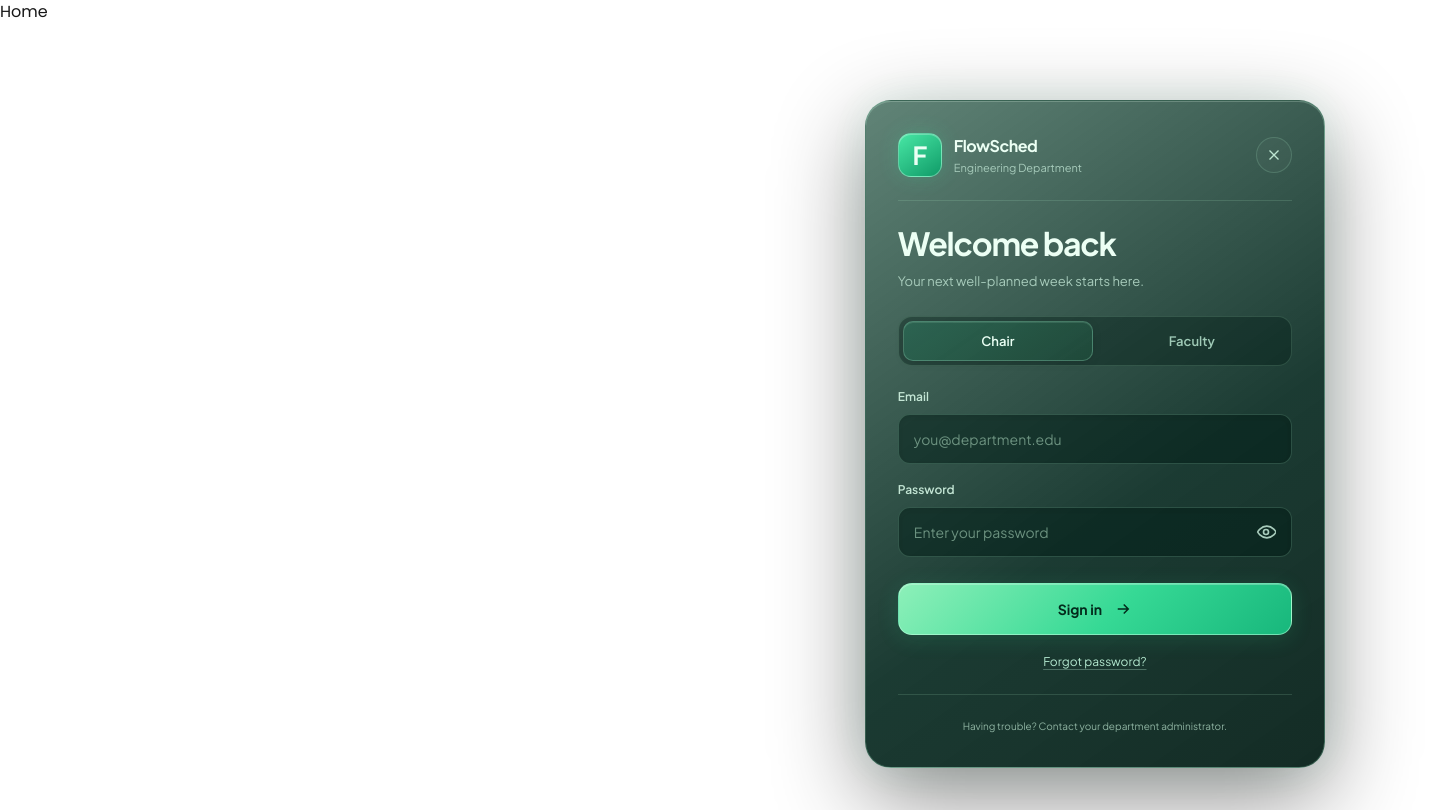
Scenario: LoginModal › keeps an inline error path available (server failure surfaces alert)
Step 1. Type "chair.dev@flowsched.local" into the field labelled "Email" → (1095, 440), box [898,414,1292,464]
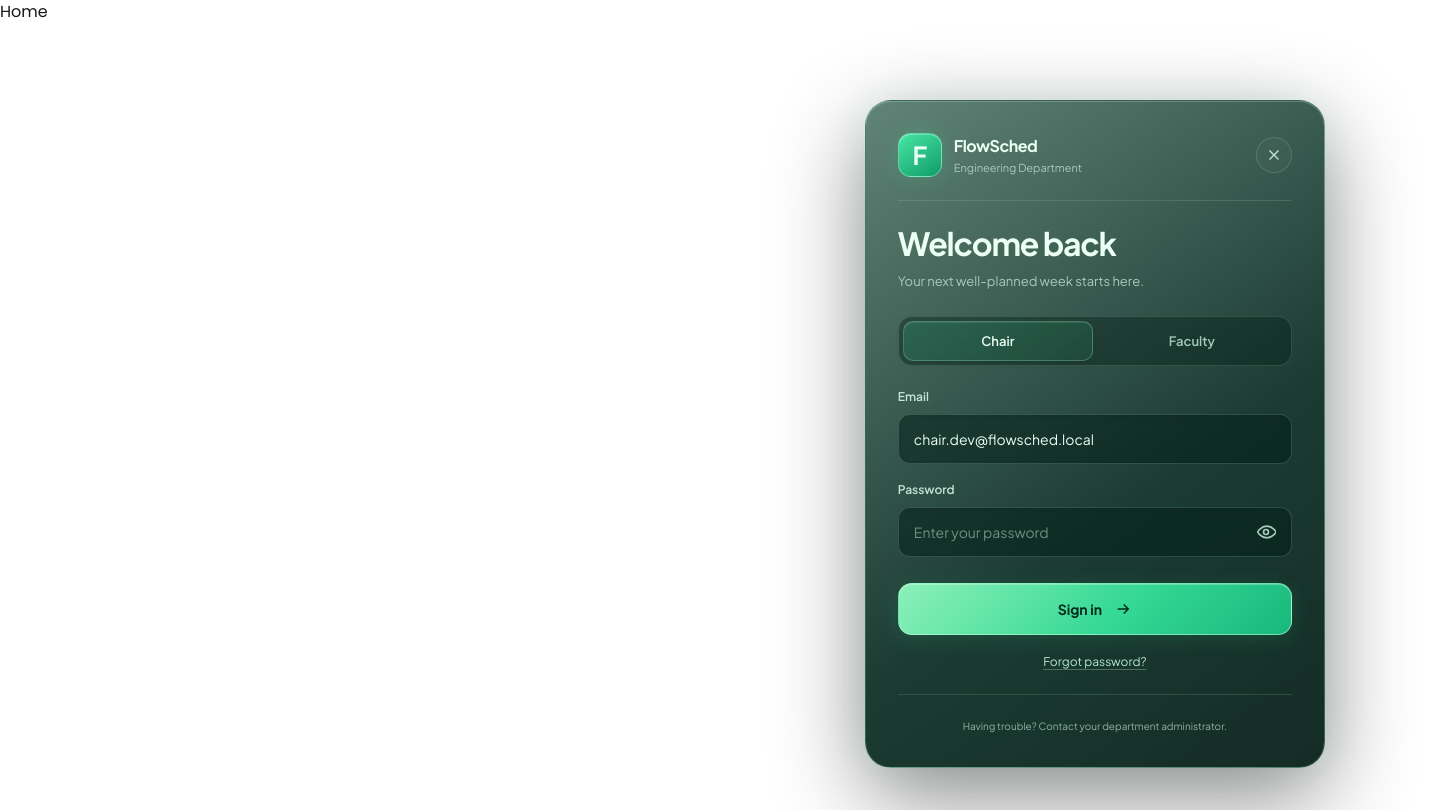
Step 2. Type "wrong" into the password field labelled "Password" → (1095, 532), box [898,508,1292,558]
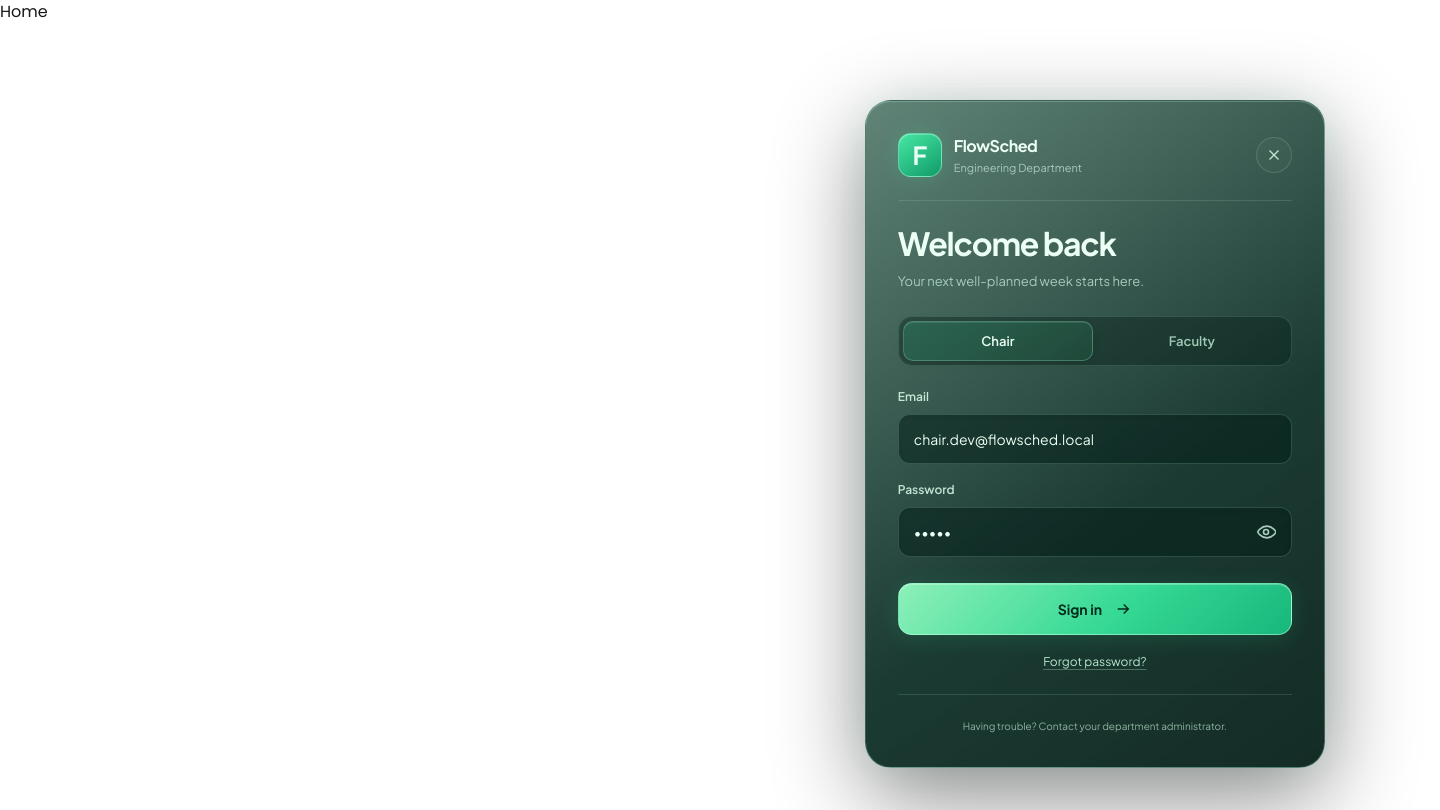
Step 3. Click the button "Sign in" → (1095, 610), box [898,584,1292,636]
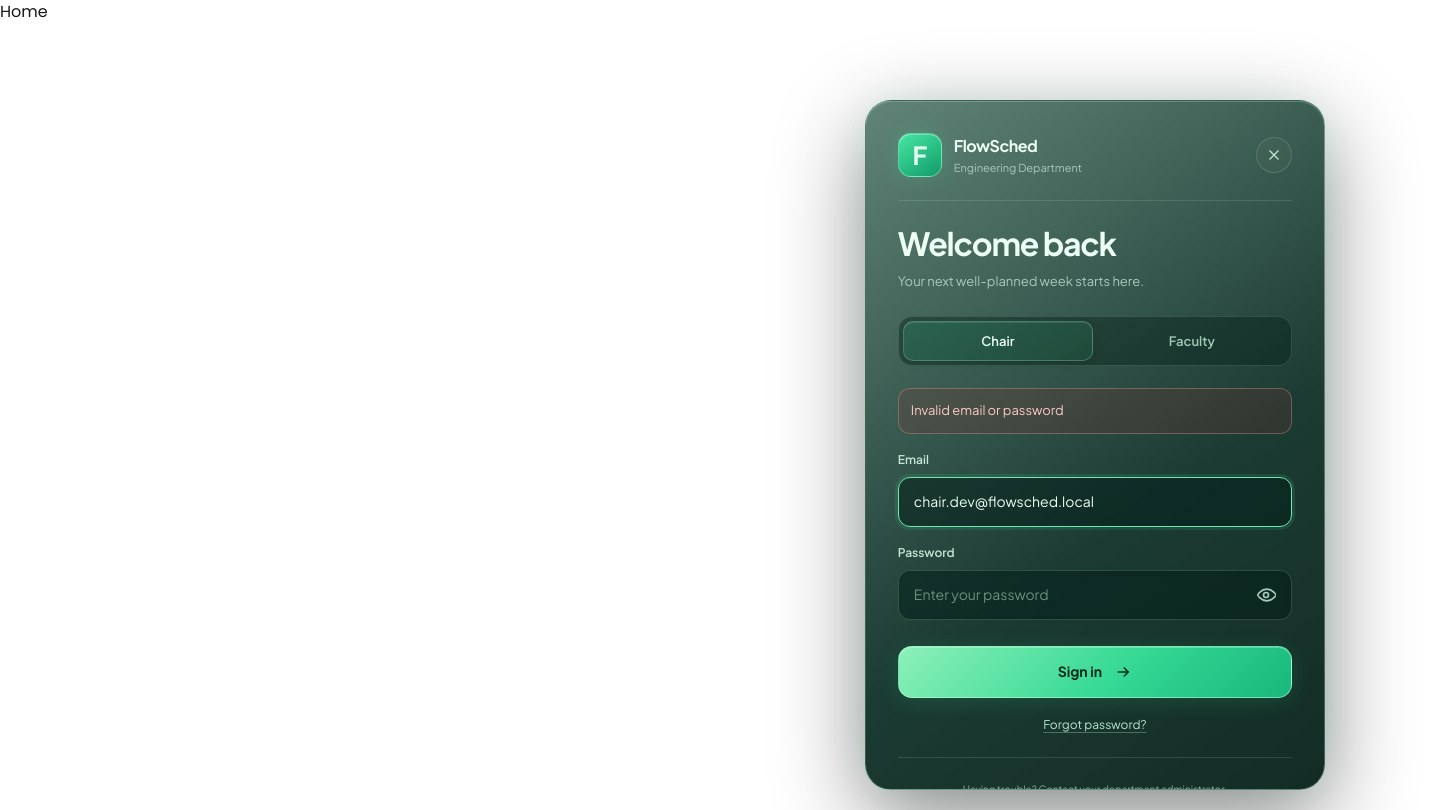
Now the message "Invalid email or password" is shown, box [898,388,1292,434]
Now the message reads "Invalid email or password", box [911,402,1064,418]
